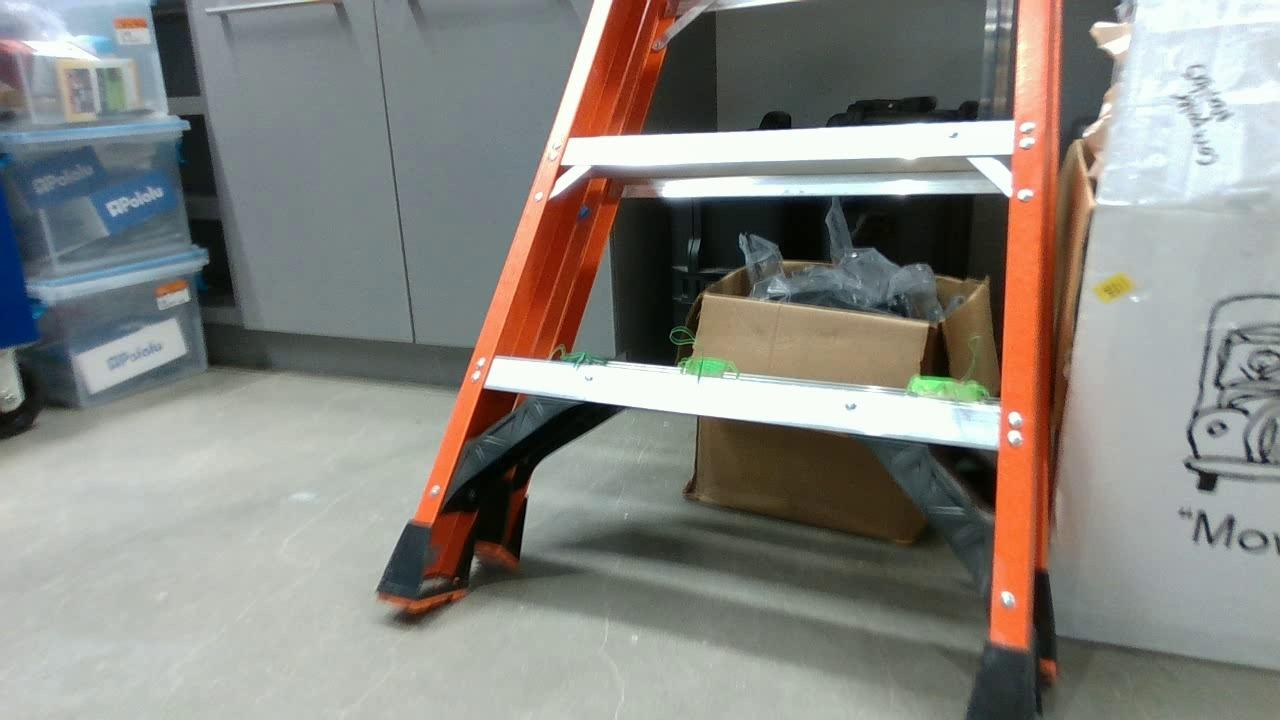grasshopper: (904, 374, 988, 407), (680, 359, 740, 389)
